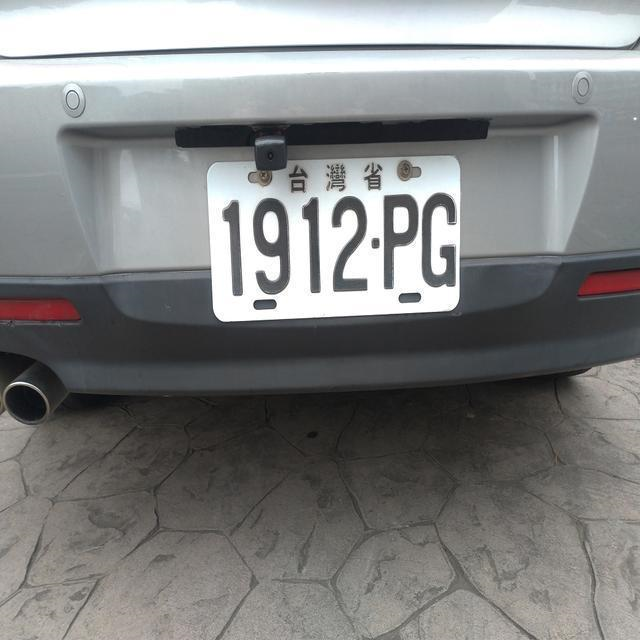license: (207, 187, 464, 299)
